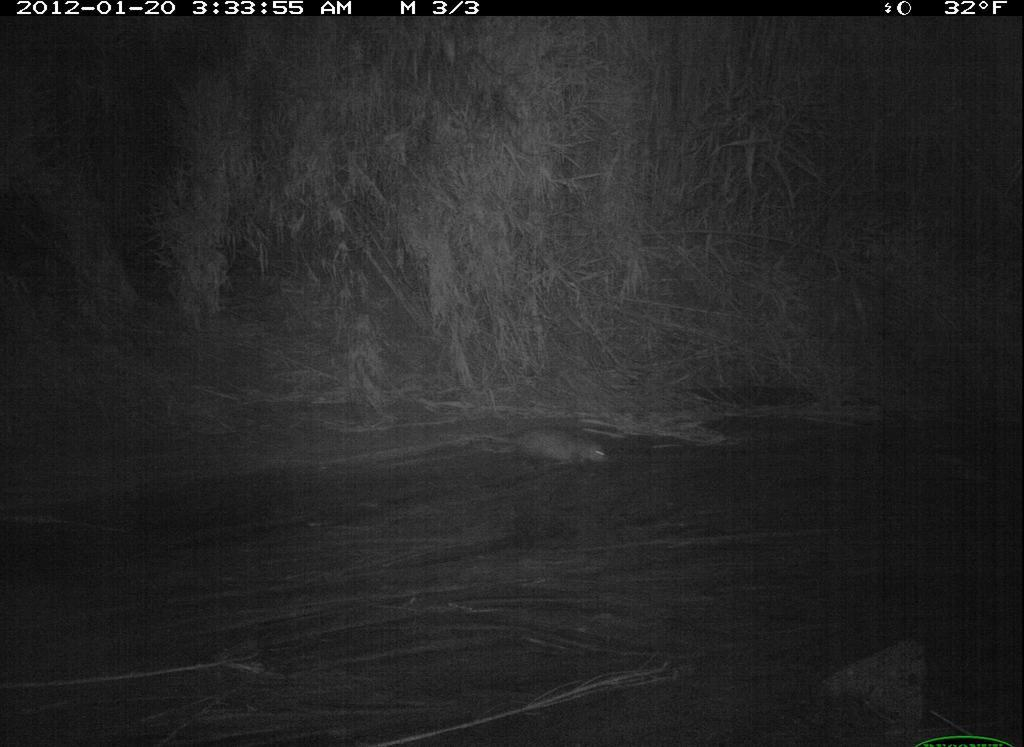opossum: (502, 423, 616, 473)
